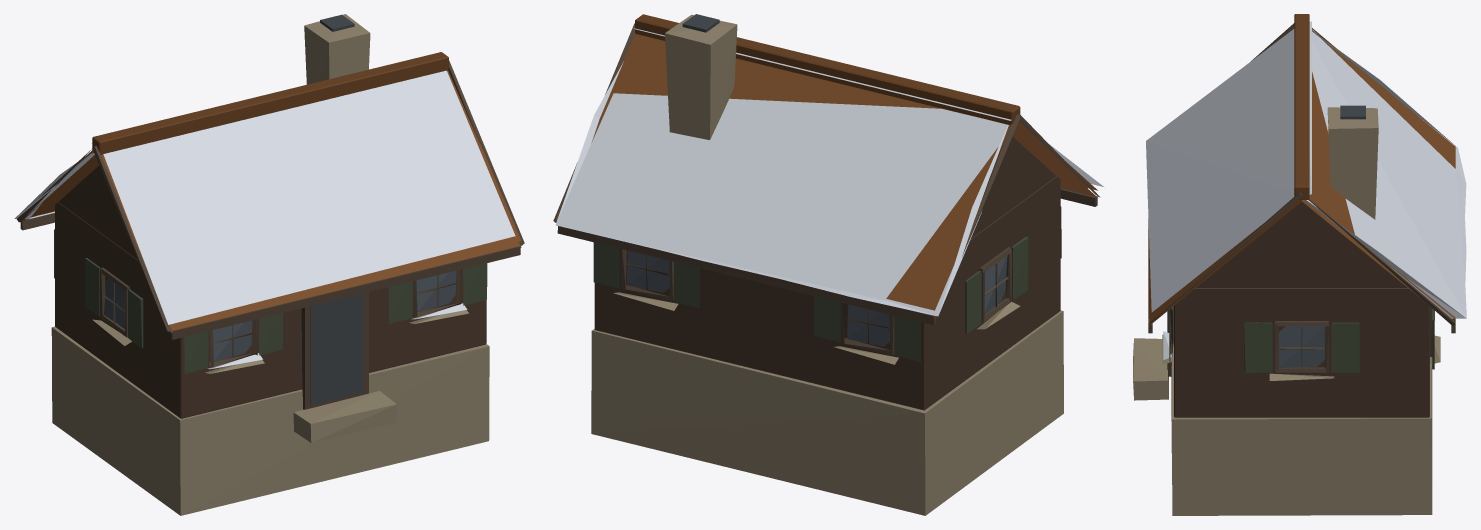
File: log-cabin-snow-lod1.glb
3 views of the same model, side by side, from view 1: azimuth 30°, elevation 25°; view 2: azimuth 150°, elevation 25°; view 3: azimuth 270°, elevation 25° (orthographic). The views are drawn at different scales.
Bounding box in the file's own units: 8.17 × 8.06 × 6.52.
